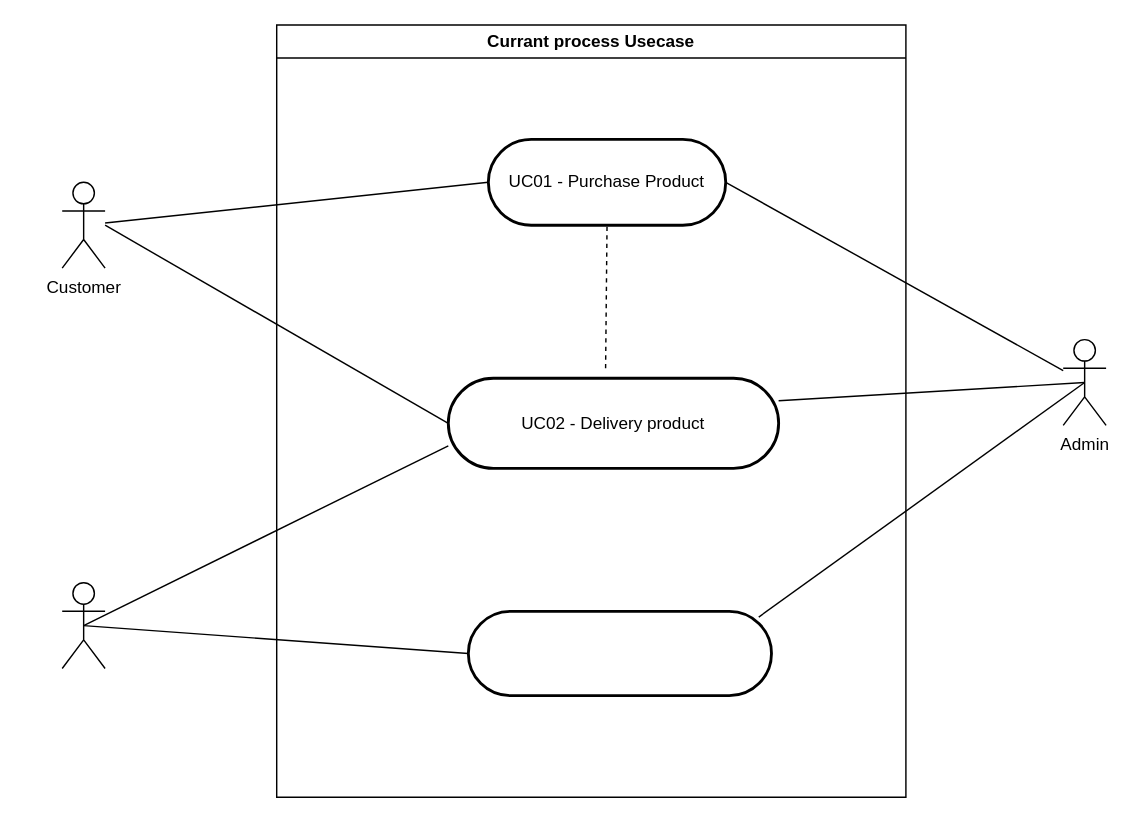
Some shapes in this 1134 by 822 pixel diagram are drawn without their labels. Each missing label, with the centre of its shape:
"Delivery person" belongs at point 83,625.
"UC03 - Stock / Restock inventory" belongs at point 619,652.
